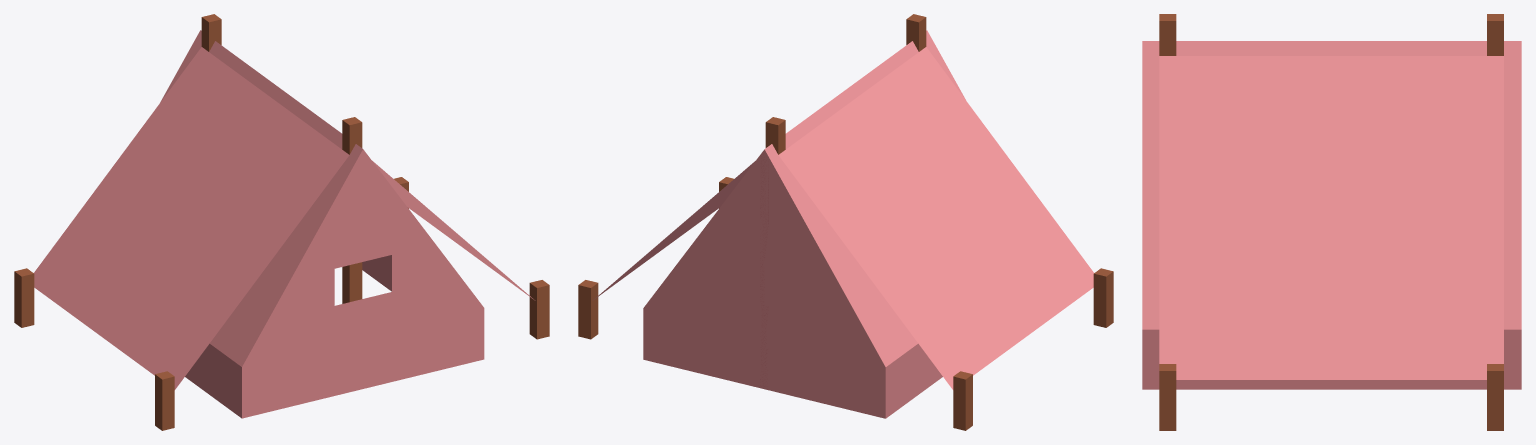
The model's file is tent_detailedClosed.glb.
The picture shows the model from 3 angles, left to right: view 1: azimuth 30°, elevation 25°; view 2: azimuth 150°, elevation 25°; view 3: azimuth 270°, elevation 25°; orthographic projection. The views are drawn at different scales.
Visible parts, largest first — view 1: tent_detailedClosed; view 2: tent_detailedClosed; view 3: tent_detailedClosed.
Part boxes in pixels (<box>): tent_detailedClosed: <box>14,14,549,430</box>; tent_detailedClosed: <box>578,14,1113,430</box>; tent_detailedClosed: <box>1142,14,1521,430</box>.
Size of the model in its own units: 0.8749 by 0.5611 by 0.6364.
